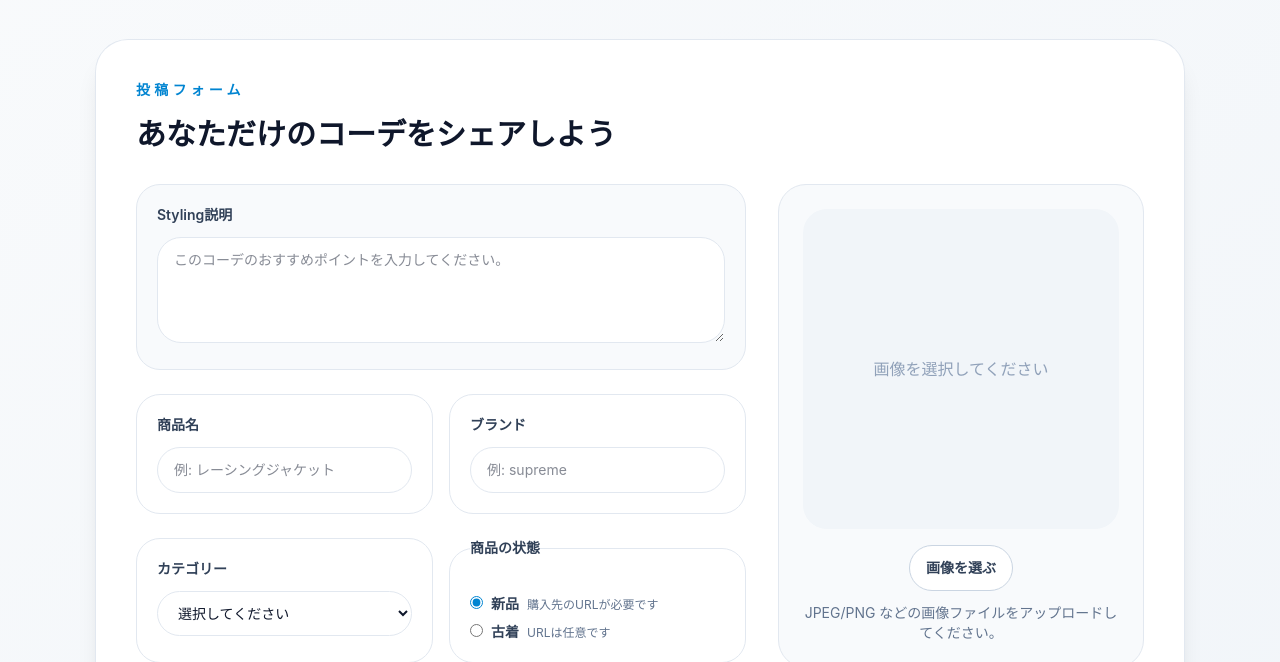
Test case: ItemUpload の商品追加 › 形式が壊れたURLは追加できない
Type "シャツ" into the field labelled "商品名".
click(284, 470); type("シャツ")  # box [157, 447, 412, 493]
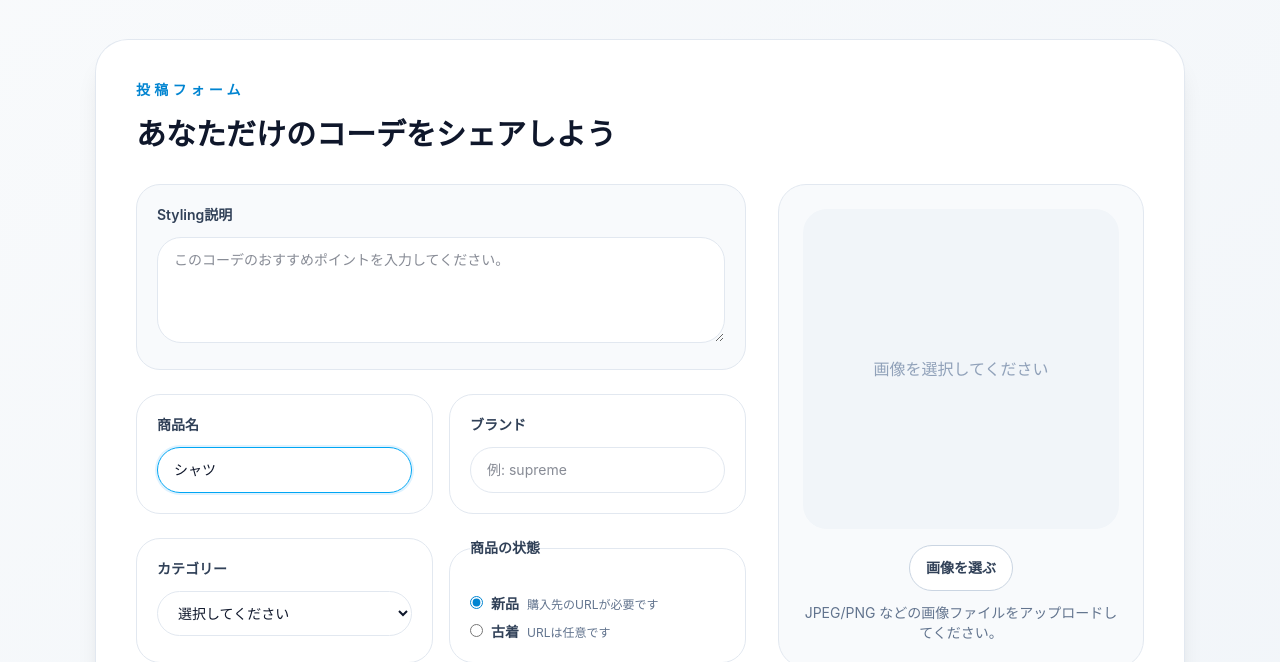
Type "MyBrand" into the field labelled "ブランド".
click(598, 470); type("MyBrand")  # box [470, 447, 725, 493]
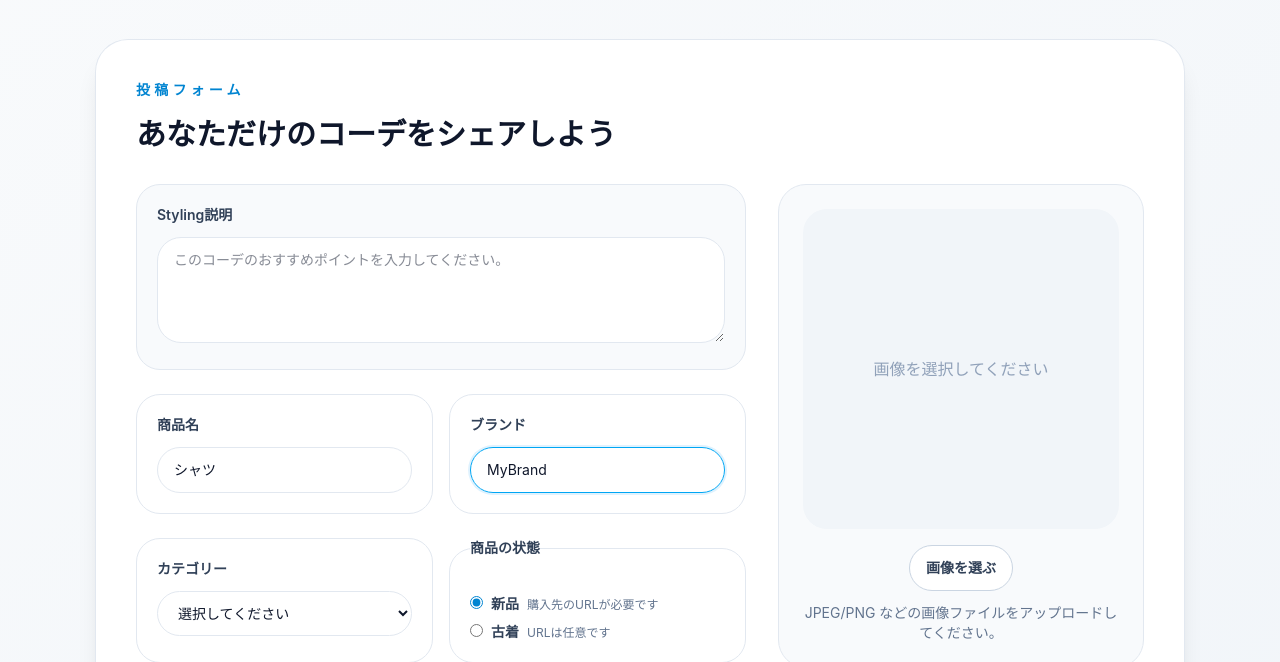
Select "トップス" in the dropdown labelled "カテゴリー" at (284, 614), box [157, 591, 412, 636]
(page scrolled)
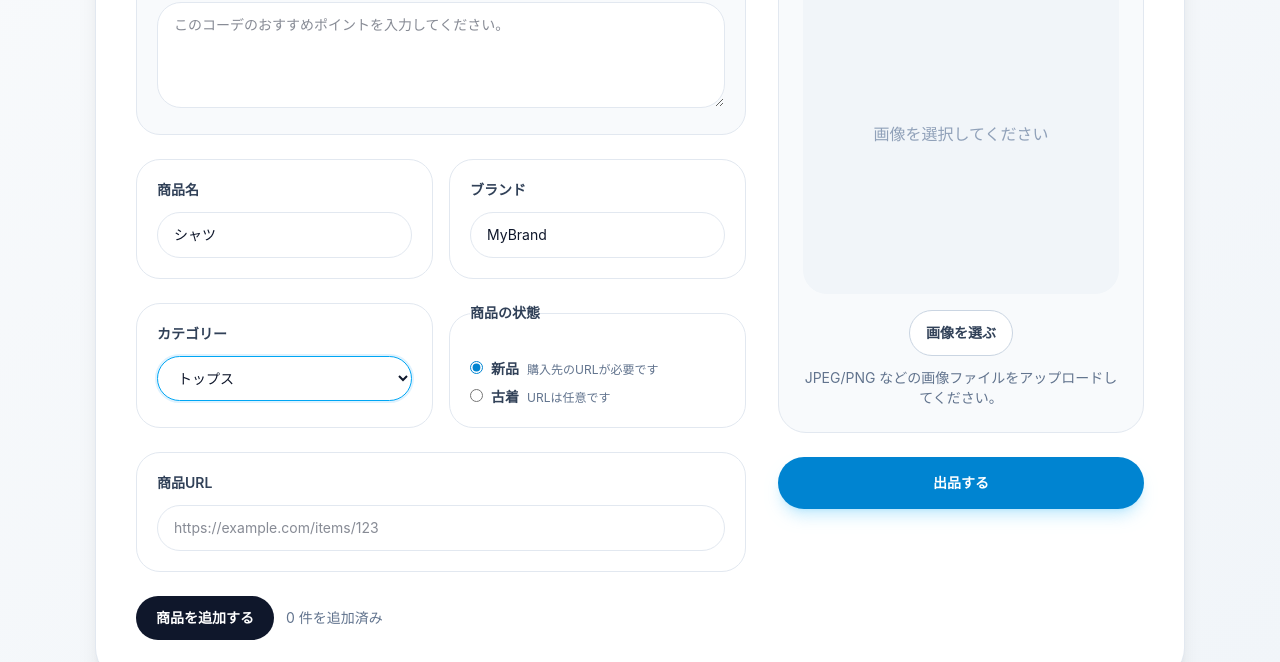
Type "example.com/1" into the field labelled "商品URL".
click(441, 528); type("example.com/1")  # box [157, 505, 725, 551]
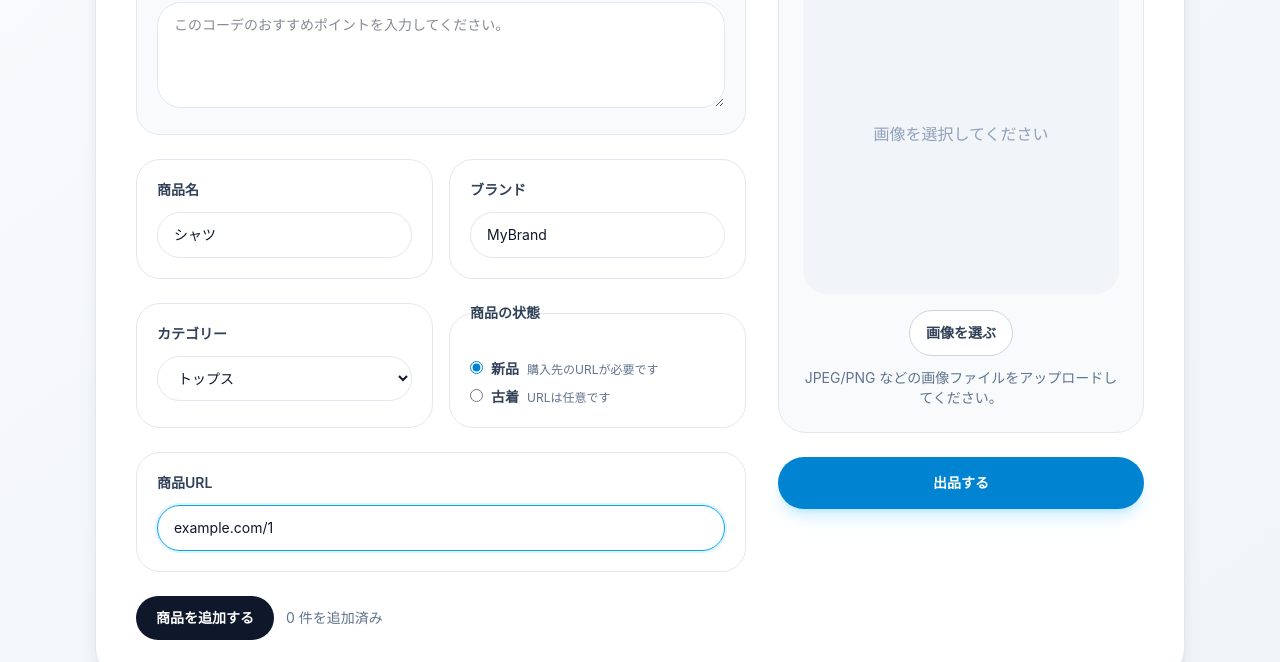
Click the button "商品を追加する".
click(205, 618)  # box [136, 596, 274, 640]
(page scrolled)
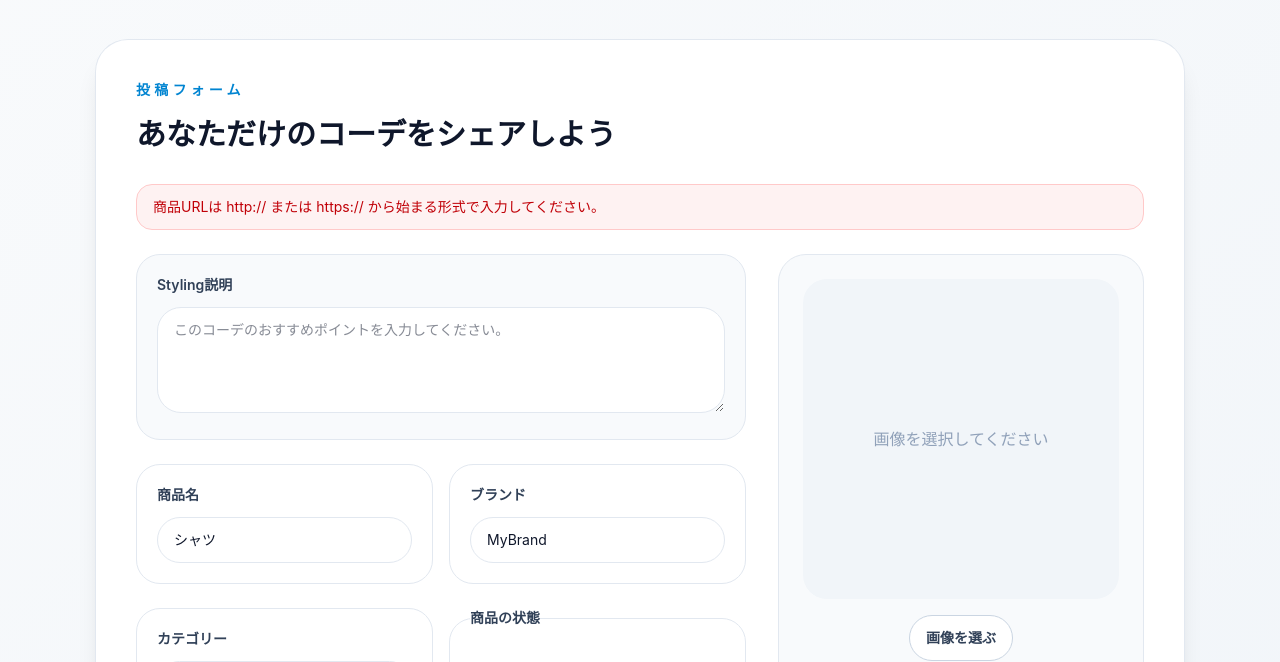
Check: the text "商品URLは http:// または https:// から始まる形式で入力してください。" is shown, box [136, 184, 1144, 230]
